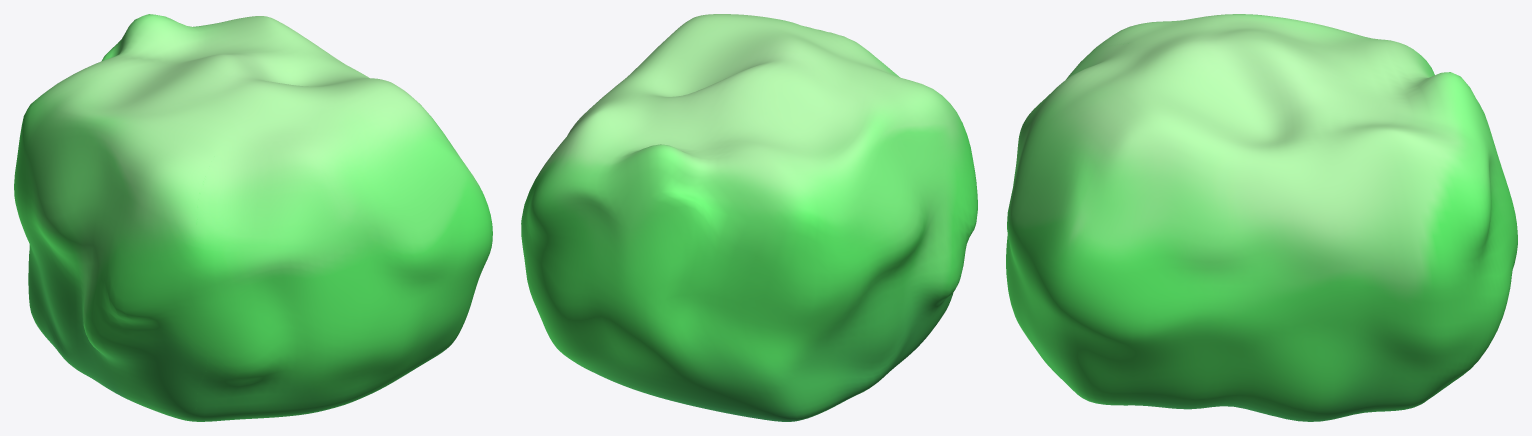
File: Simple bush 1blend 1.fbx
3 renders of one model, left to right at view 1: azimuth 30°, elevation 25°; view 2: azimuth 150°, elevation 25°; view 3: azimuth 270°, elevation 25°, orthographic. The views are drawn at different scales.
Visible parts, largest first — view 1: Cube; view 2: Cube; view 3: Cube.
Part boxes in pixels (bbox=[...]): Cube: bbox=[14, 14, 492, 421]; Cube: bbox=[521, 14, 977, 421]; Cube: bbox=[1006, 14, 1517, 421].
Size of the model in its own units: 218 by 168 by 249.
